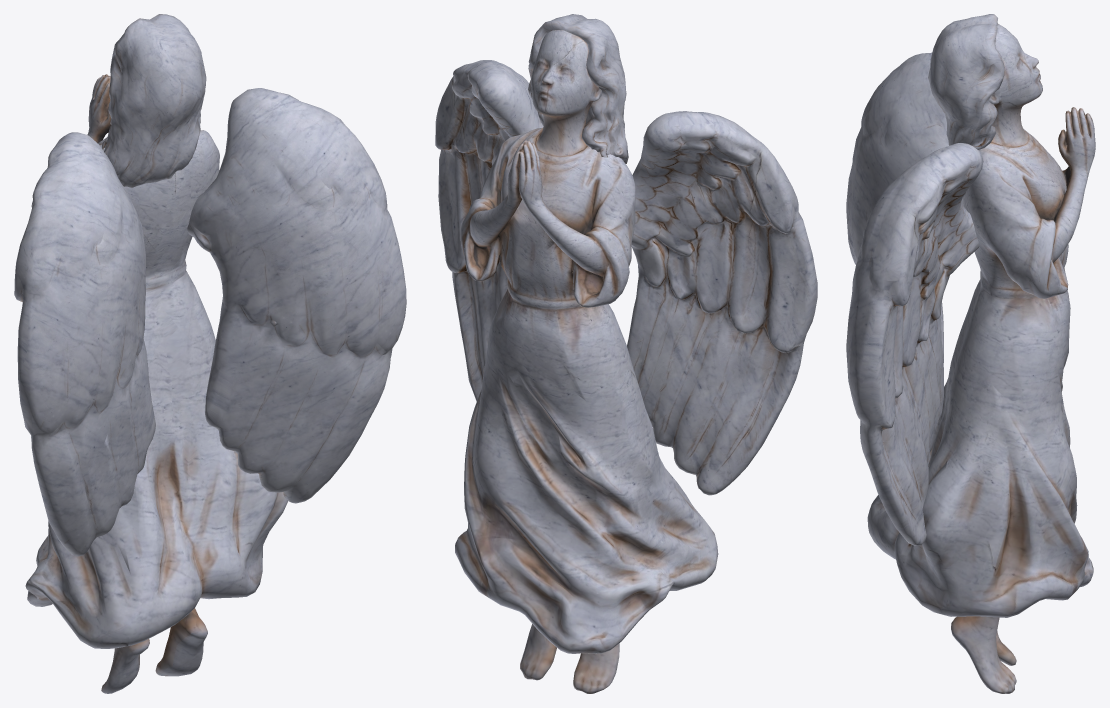
The model's file is aniel.gltf.
The picture shows the model from 3 angles, left to right: view 1: azimuth 30°, elevation 25°; view 2: azimuth 150°, elevation 25°; view 3: azimuth 270°, elevation 25°; orthographic projection. The views are drawn at different scales.
Parts seen in each view (by area): view 1: aniel; view 2: aniel; view 3: aniel.
Boxes of the visible parts, <box> form: aniel: <box>14,14,406,693</box>; aniel: <box>435,14,817,693</box>; aniel: <box>846,14,1095,693</box>.
Bounding box in the file's own units: 1.05 × 1.76 × 0.6047.
Materials: 3 (3 with a texture image).
